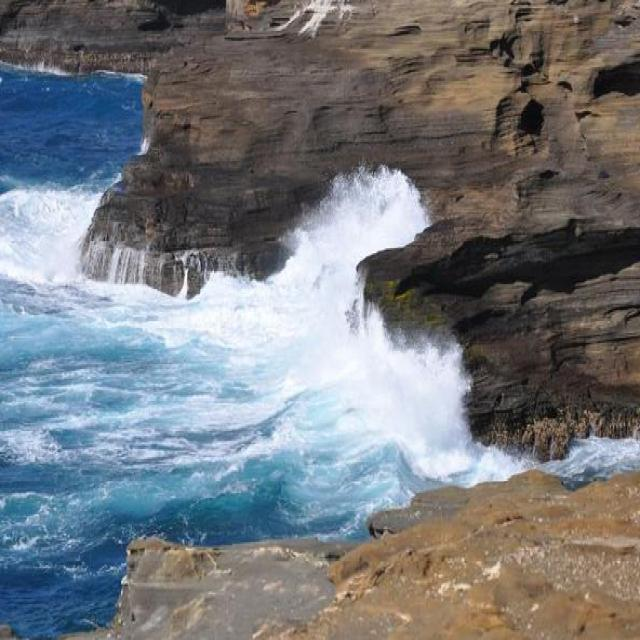reef: (105, 49, 559, 520)
